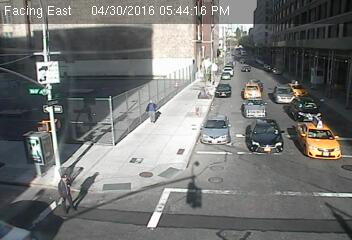neg: (170, 157, 213, 215), (30, 124, 63, 168), (71, 93, 91, 120)
pos: (46, 171, 80, 217), (142, 98, 161, 124)
